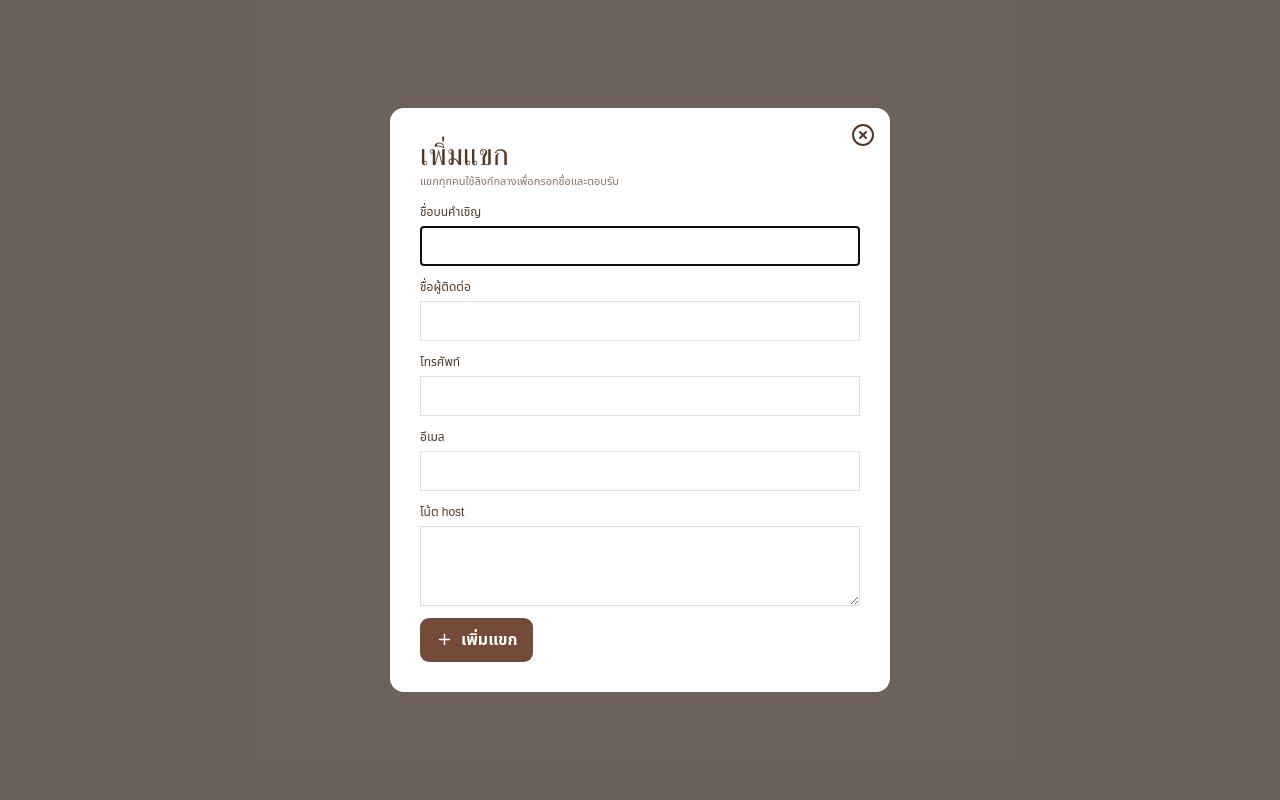
Test: GuestCreateModal › shows a useful error and keeps the modal open after a network failure
Type "ครอบครัวออฟไลน์" into the field labelled "ชื่อบนคำเชิญ".
click(640, 246); type("ครอบครัวออฟไลน์")  # box x1=420 y1=226 x2=860 y2=266
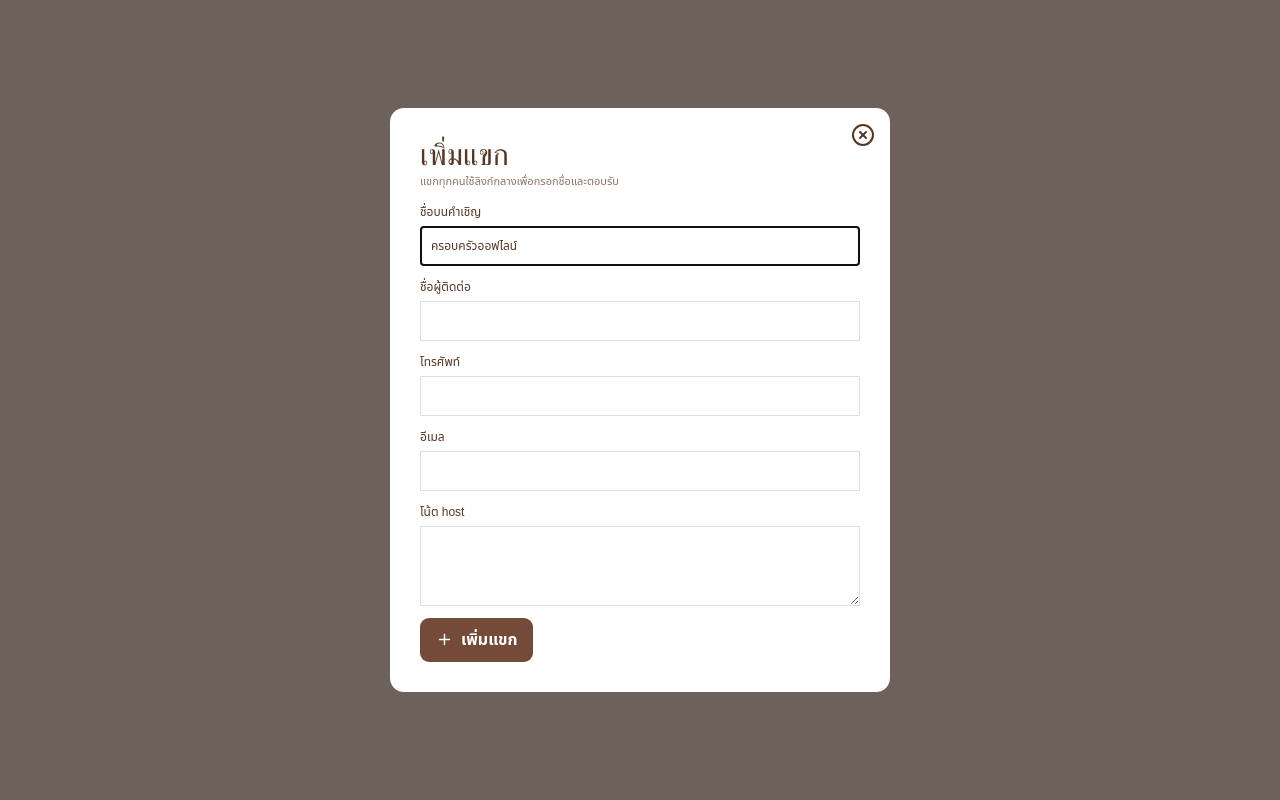
Type "คุณออฟไลน์" into the field labelled "ชื่อผู้ติดต่อ".
click(640, 321); type("คุณออฟไลน์")  # box x1=420 y1=301 x2=860 y2=341
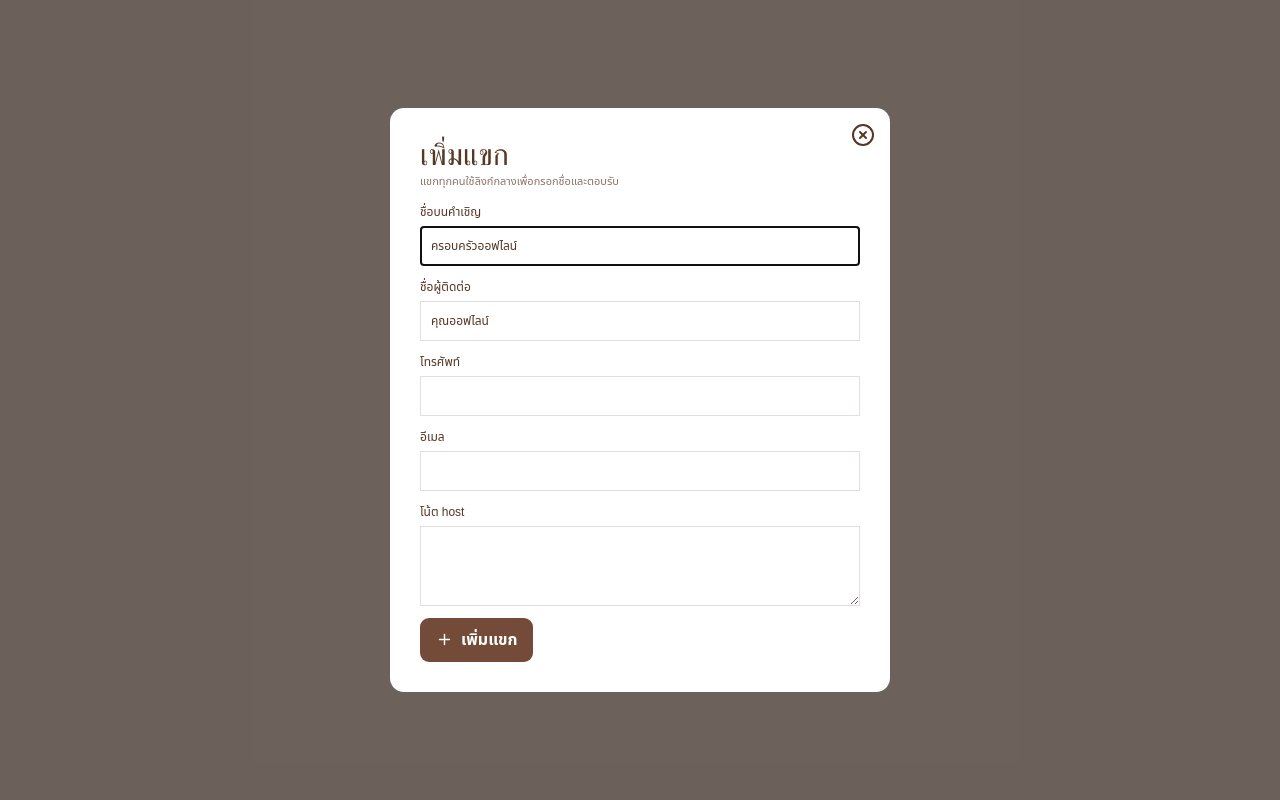
Click the button "เพิ่มแขก".
click(477, 640)  # box x1=420 y1=618 x2=533 y2=662
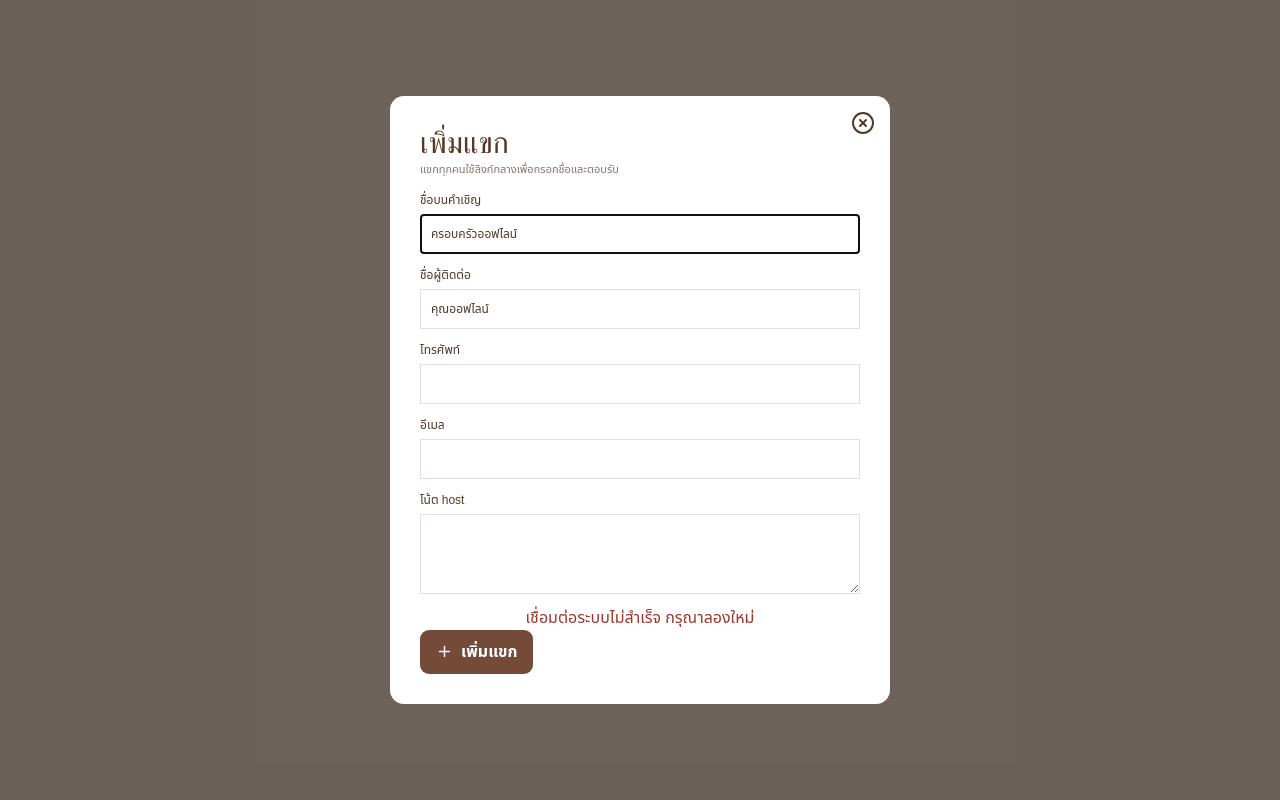
Expected: the message shows "เชื่อมต่อระบบไม่สำเร็จ", x1=526 y1=606 x2=754 y2=630
